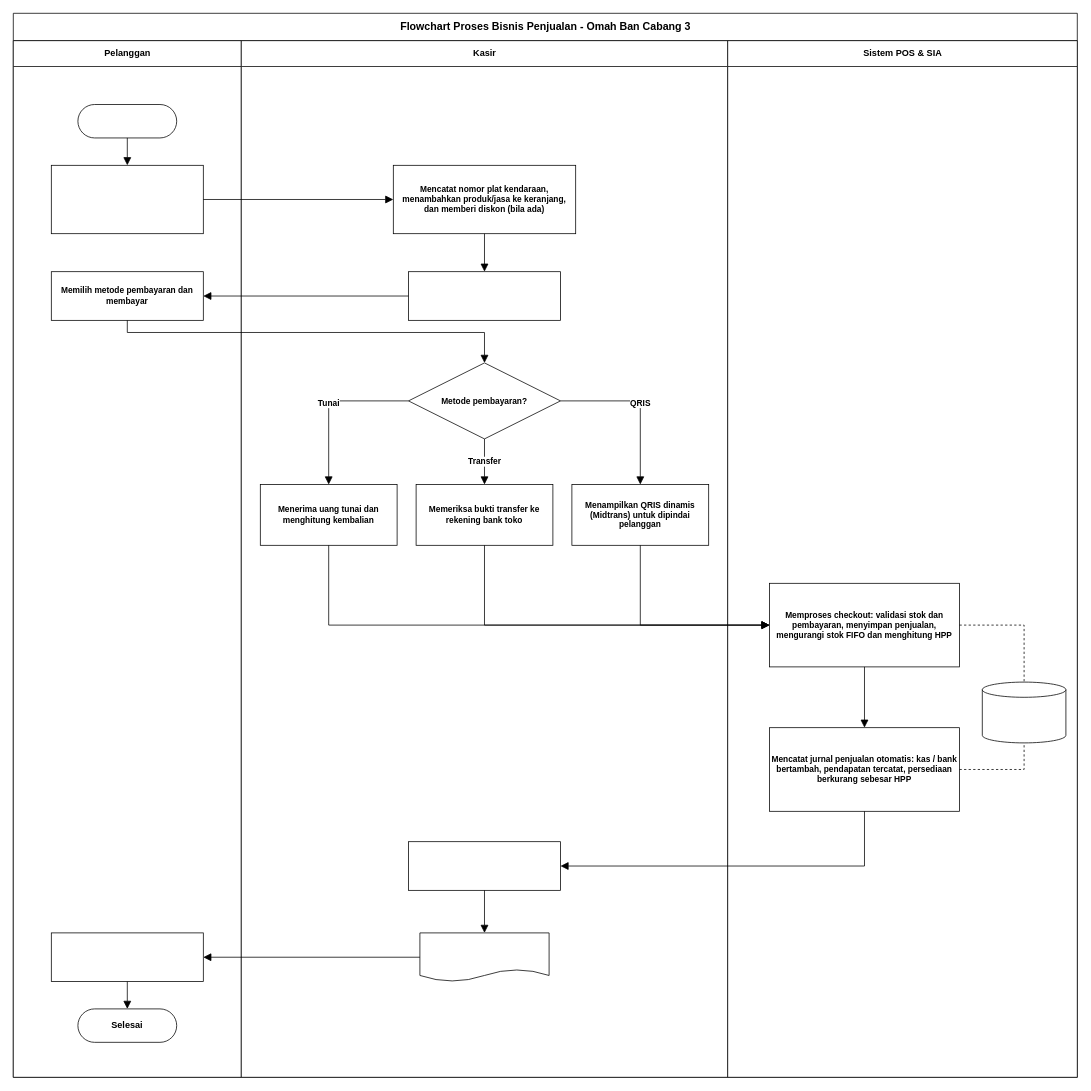
This 1091x1091 diagram has some shape labels left out. The centre of each missing label's shape, as x and y in pixels:
Database Penjualan & Persediaan: (x=1024, y=712)
Datang dan memilih ban / velg dan/atau jasa servis (spooring, balancing): (x=127, y=199)
Mencetak struk belanja (thermal 80mm): (x=484, y=865)
Menerima struk dan barang / jasa: (x=127, y=957)
Menginformasikan total tagihan: (x=484, y=295)
Mulai: (x=127, y=121)
Struk Belanja: (x=484, y=957)
